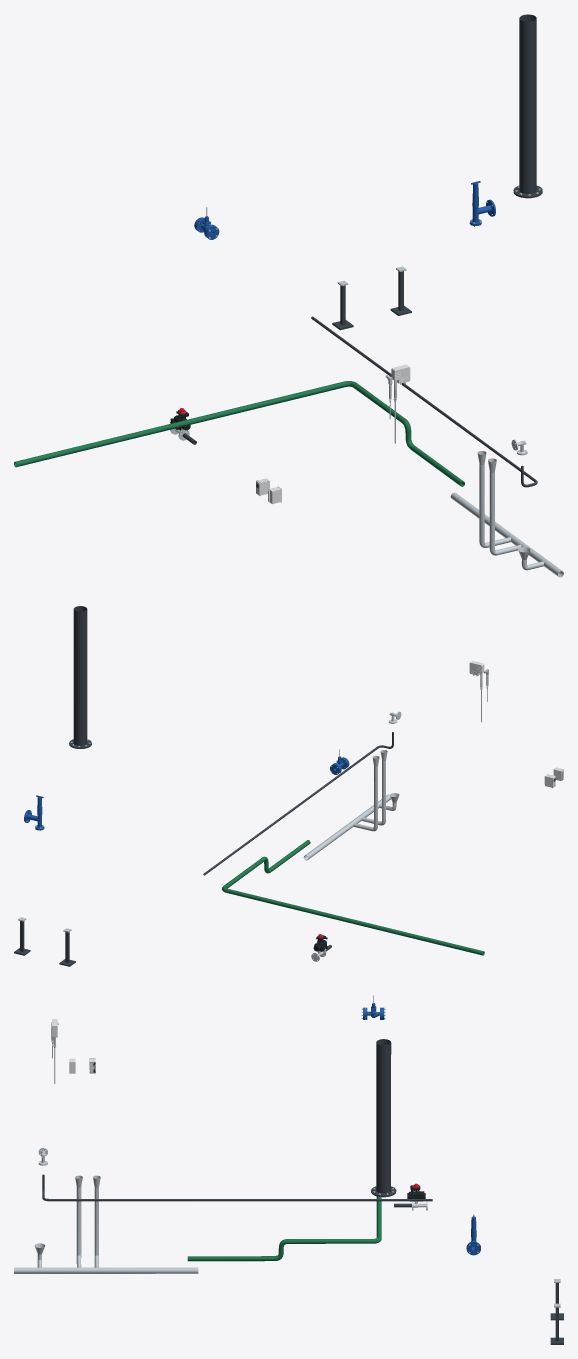
Rendered from s4000-1-DEFxyF7d.glb.
The picture shows the model from 3 angles, top to bottom: view 1: azimuth 30°, elevation 25°; view 2: azimuth 150°, elevation 25°; view 3: azimuth 270°, elevation 25°; orthographic projection. The views are drawn at different scales.
Visible parts, largest first — view 1: bdv_vent / dark, suction_common / green, local_open_drains / steel, tds_common / dark, trap_support / dark; view 2: bdv_vent / dark, suction_common / green, local_open_drains / steel, tds_common / dark, trap_support / dark; view 3: local_open_drains / steel, bdv_vent / dark, suction_common / green, tds_common / dark.
Boxes of the visible parts, x1=… form: bdv_vent / dark: x1=513, y1=14, x2=542, y2=198; suction_common / green: x1=14, y1=381, x2=464, y2=486; local_open_drains / steel: x1=450, y1=451, x2=563, y2=577; tds_common / dark: x1=311, y1=316, x2=537, y2=487; trap_support / dark: x1=332, y1=271, x2=411, y2=330; bdv_vent / dark: x1=69, y1=606, x2=91, y2=748; suction_common / green: x1=222, y1=840, x2=484, y2=955; local_open_drains / steel: x1=303, y1=750, x2=399, y2=860; tds_common / dark: x1=203, y1=732, x2=393, y2=875; trap_support / dark: x1=14, y1=921, x2=75, y2=966; local_open_drains / steel: x1=14, y1=1175, x2=198, y2=1273; bdv_vent / dark: x1=371, y1=1039, x2=396, y2=1197; suction_common / green: x1=187, y1=1196, x2=381, y2=1261; tds_common / dark: x1=42, y1=1174, x2=432, y2=1201.
Size of the model in its own units: 5.94 by 3.85 by 6.18.
